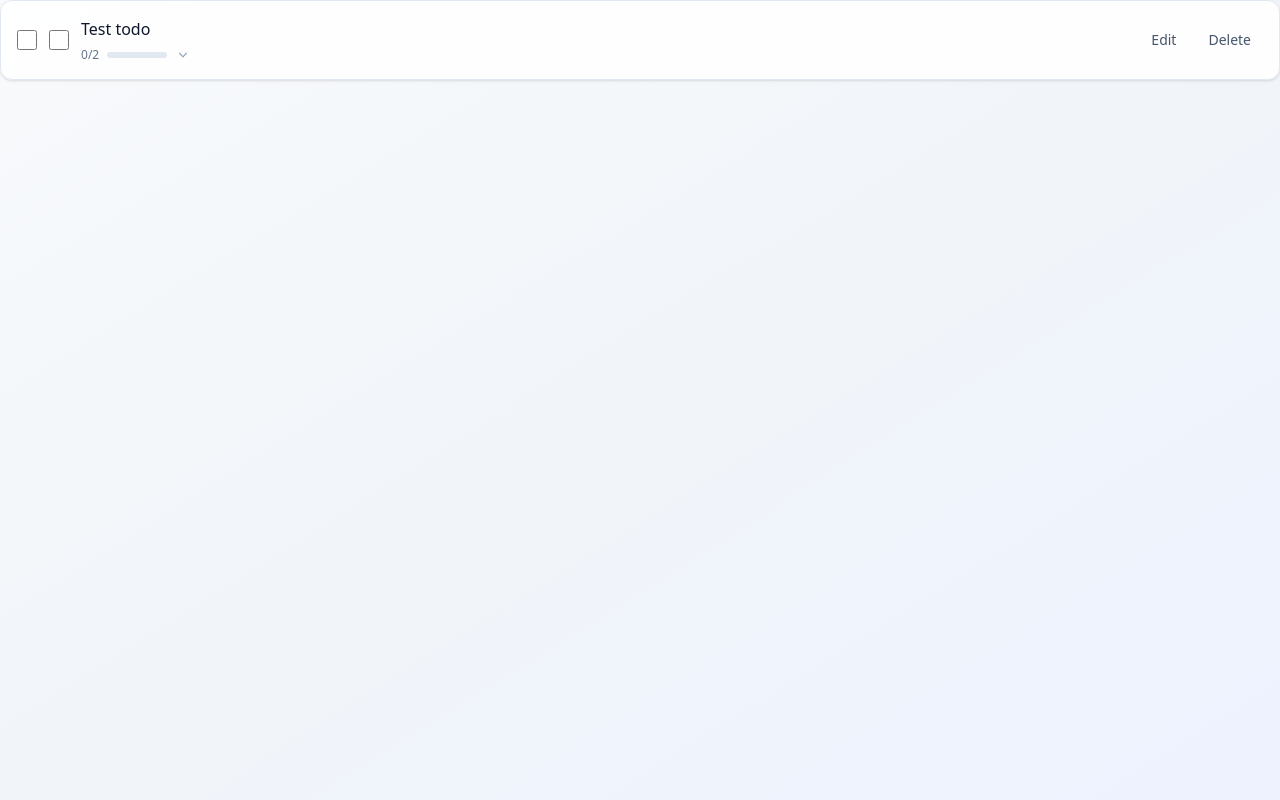
TodoItem › subtask progress display › clicking progress indicator again collapses subtask list
Click the button named "subtasks completed".
click(136, 55)  # box top-left (81, 47), bottom-right (191, 63)
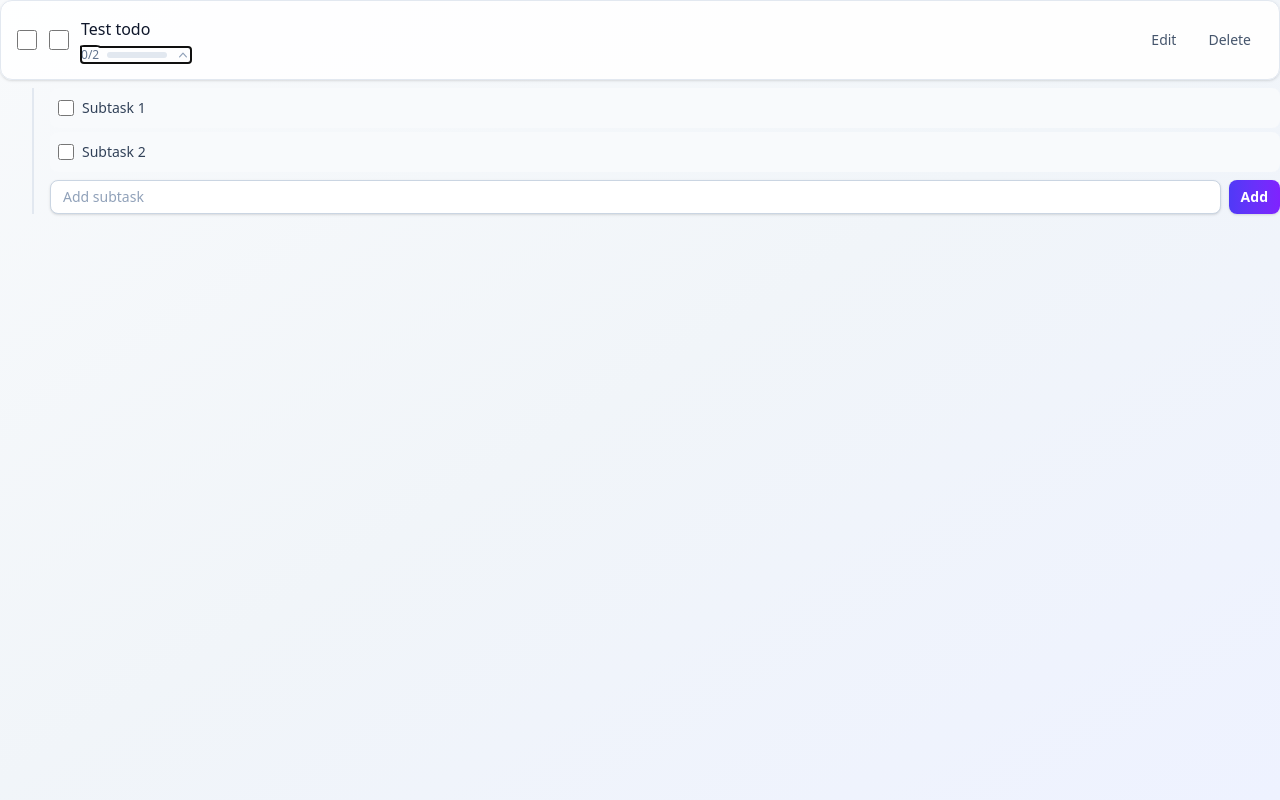
Expected: the list named "Subtasks" is shown, top-left (50, 88), bottom-right (1279, 172)
Click the button named "subtasks completed".
click(136, 55)  # box top-left (81, 47), bottom-right (191, 63)
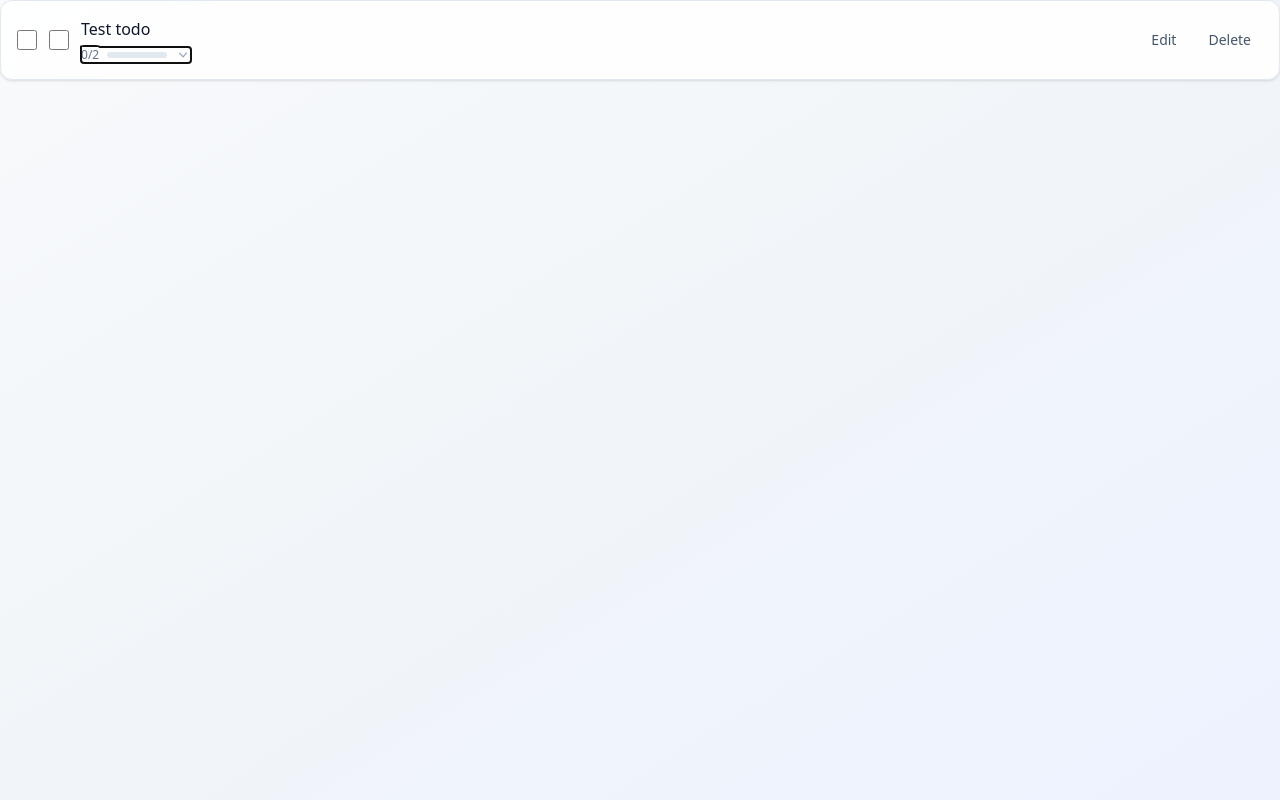
Expected: the list labelled "Subtasks" is gone
